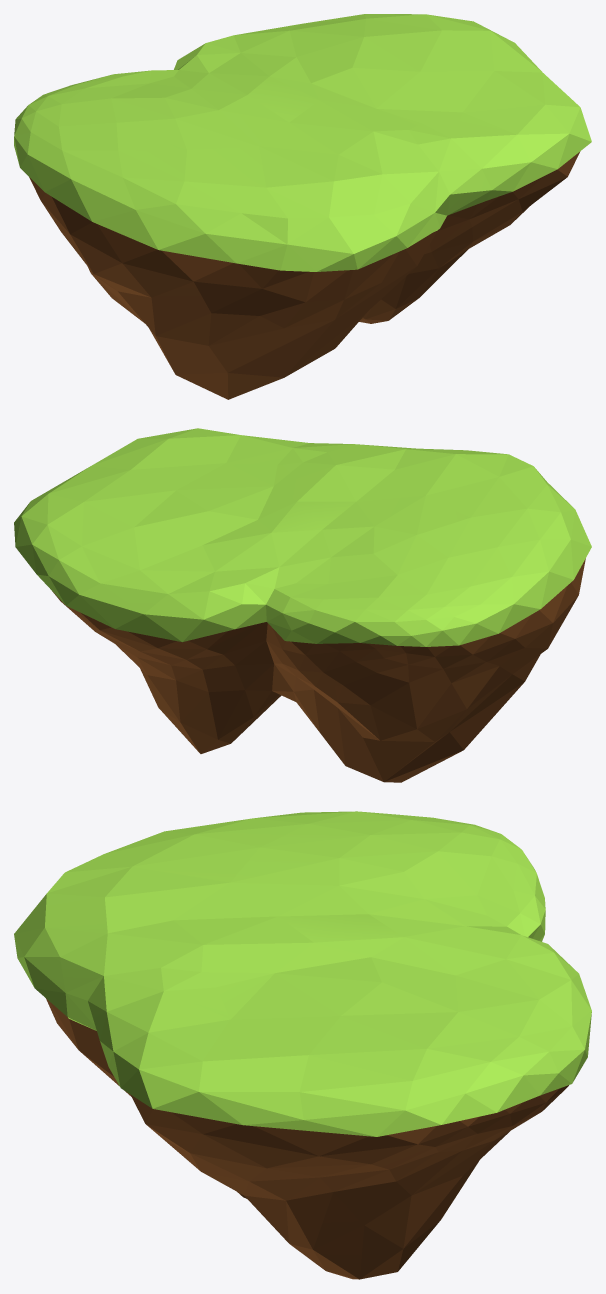
File: testIsland.fbx
3 views of the same model, one above another, from view 1: azimuth 30°, elevation 25°; view 2: azimuth 150°, elevation 25°; view 3: azimuth 270°, elevation 25° (orthographic). The views are drawn at different scales.
Parts seen in each view (by area): view 1: Icosphere; view 2: Icosphere; view 3: Icosphere.
Boxes of the visible parts, bbox=[...] form: Icosphere: bbox=[14, 14, 591, 399]; Icosphere: bbox=[14, 428, 591, 782]; Icosphere: bbox=[14, 811, 591, 1279].
Size of the model in its own units: 3517 by 1851 by 2978.
